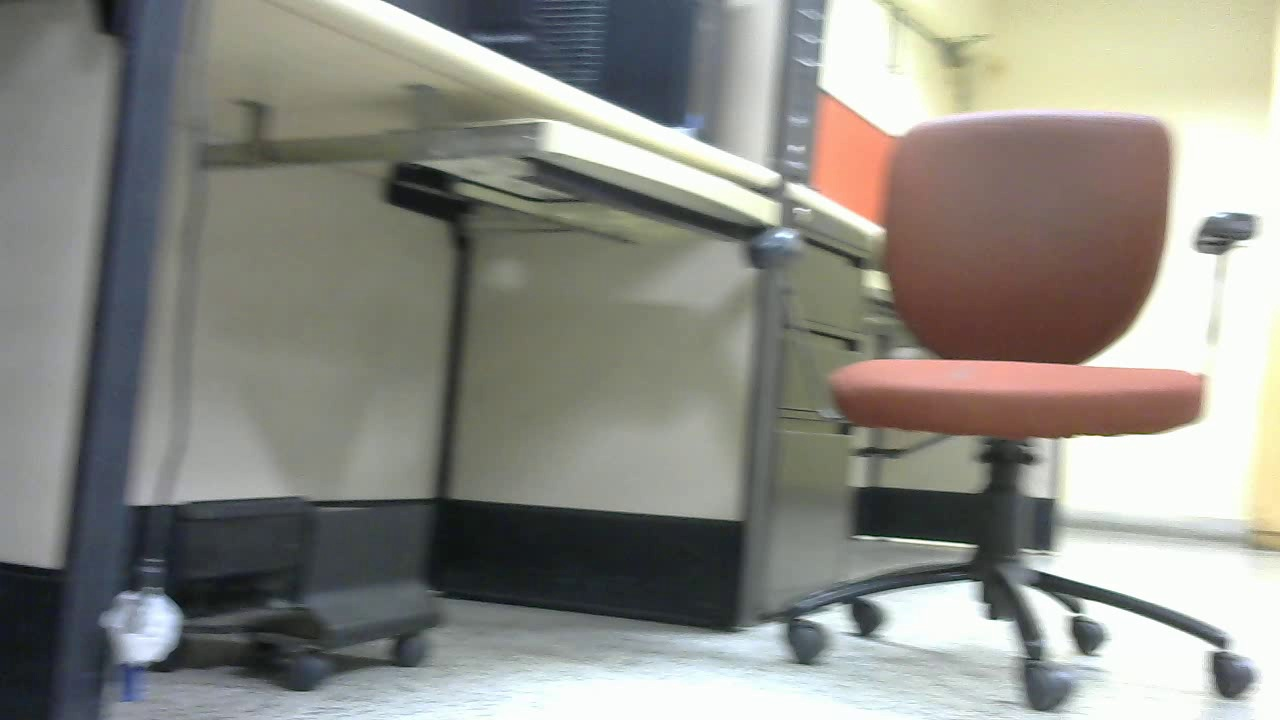chair: (742, 106, 1280, 720)
